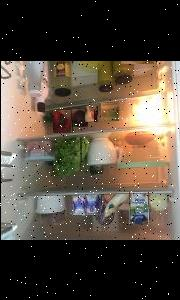Aguacate: (71, 107, 87, 126)
Ajo: (85, 105, 97, 121)
Guacamole: (102, 102, 120, 120)
Lechuga/Endivia: (55, 136, 81, 174)
Nata: (129, 191, 148, 223)
Pimiento: (53, 109, 72, 132)
Yogur: (86, 194, 100, 214), (71, 194, 84, 214)
